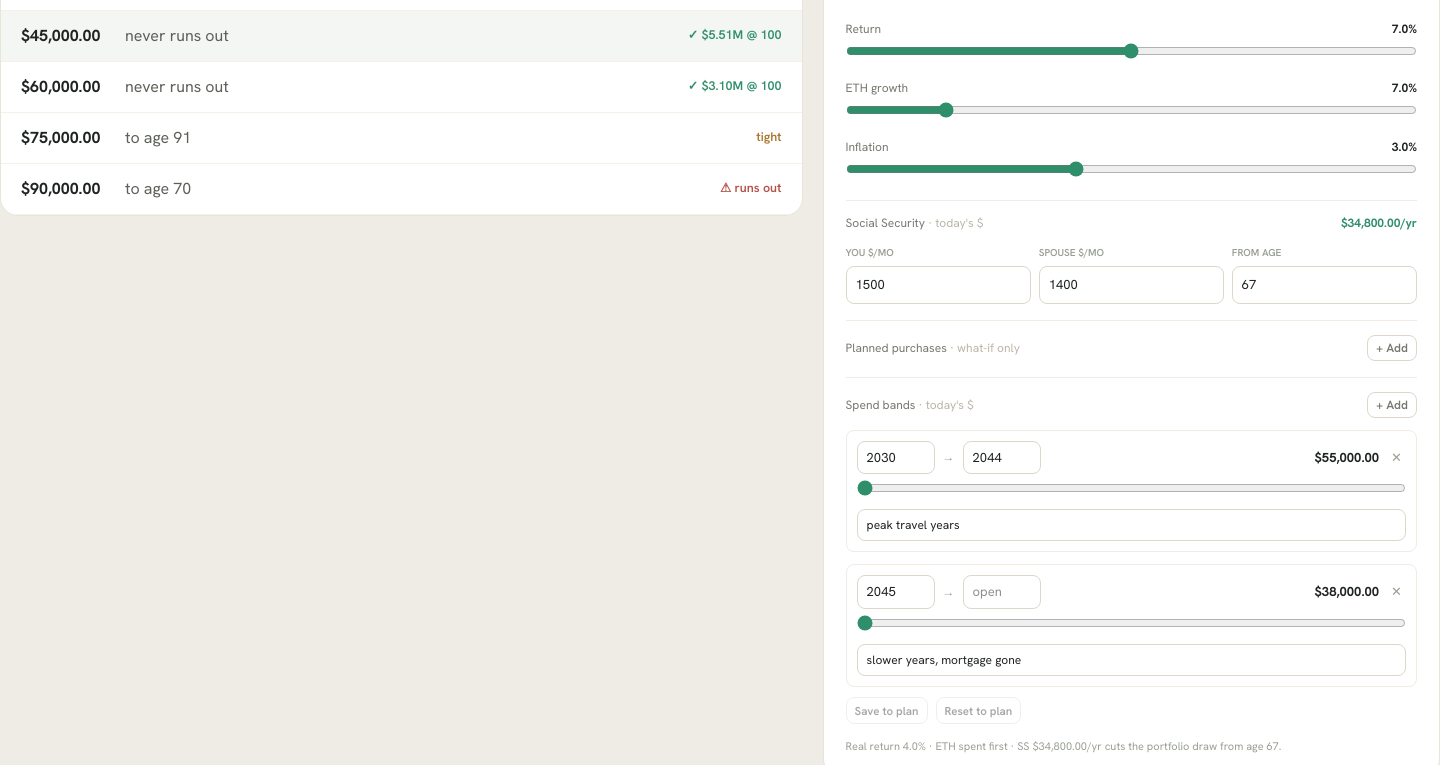
Test: spend bands section › an overlapping draft warns instead of fetching
(page scrolled)
Replace the text in the number field with test id "forecast-band-end-0" with "2046" at (1002, 457), box [963,441,1041,474]
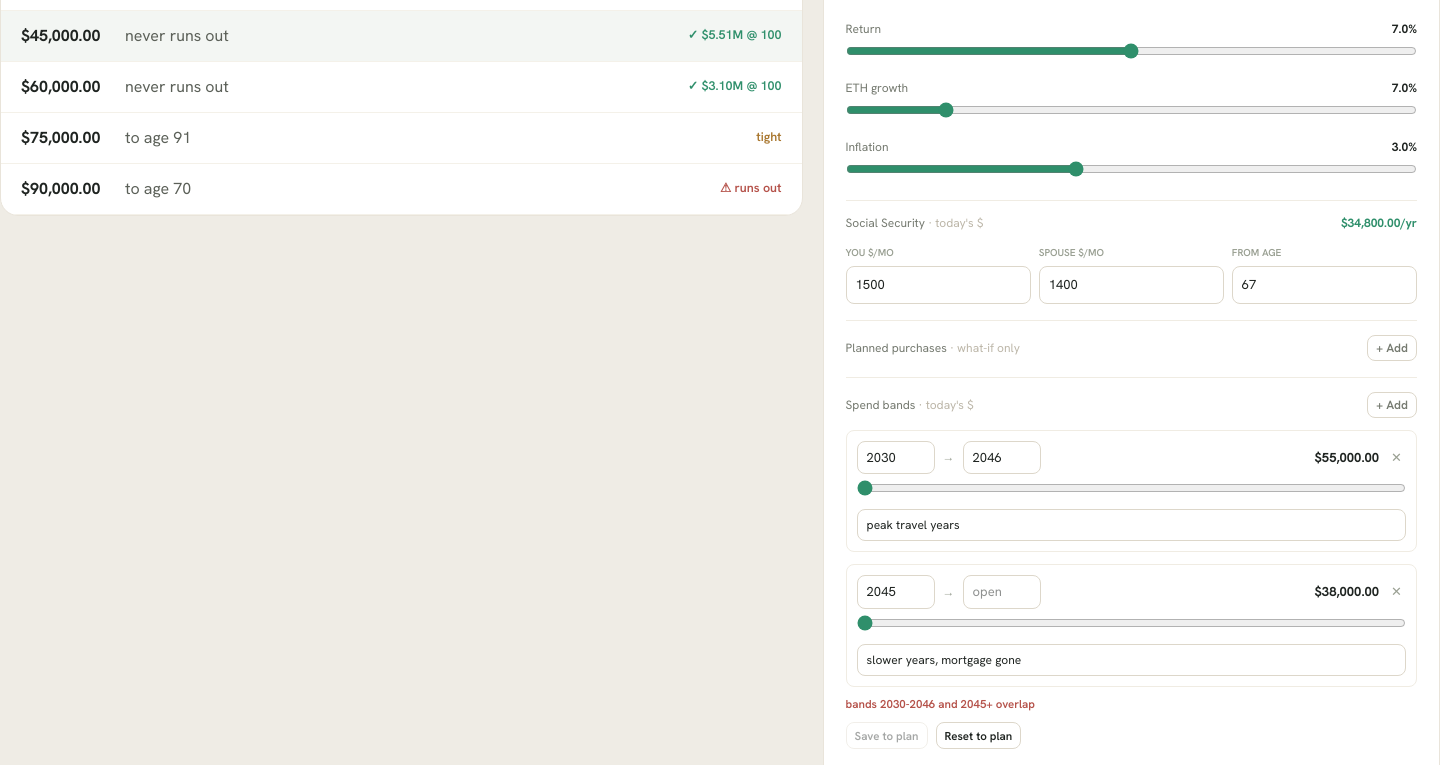
Now the text with test id "forecast-band-problem" reads "bands 2030-2046 and 2045+ overlap", box [846,696,1035,711]
